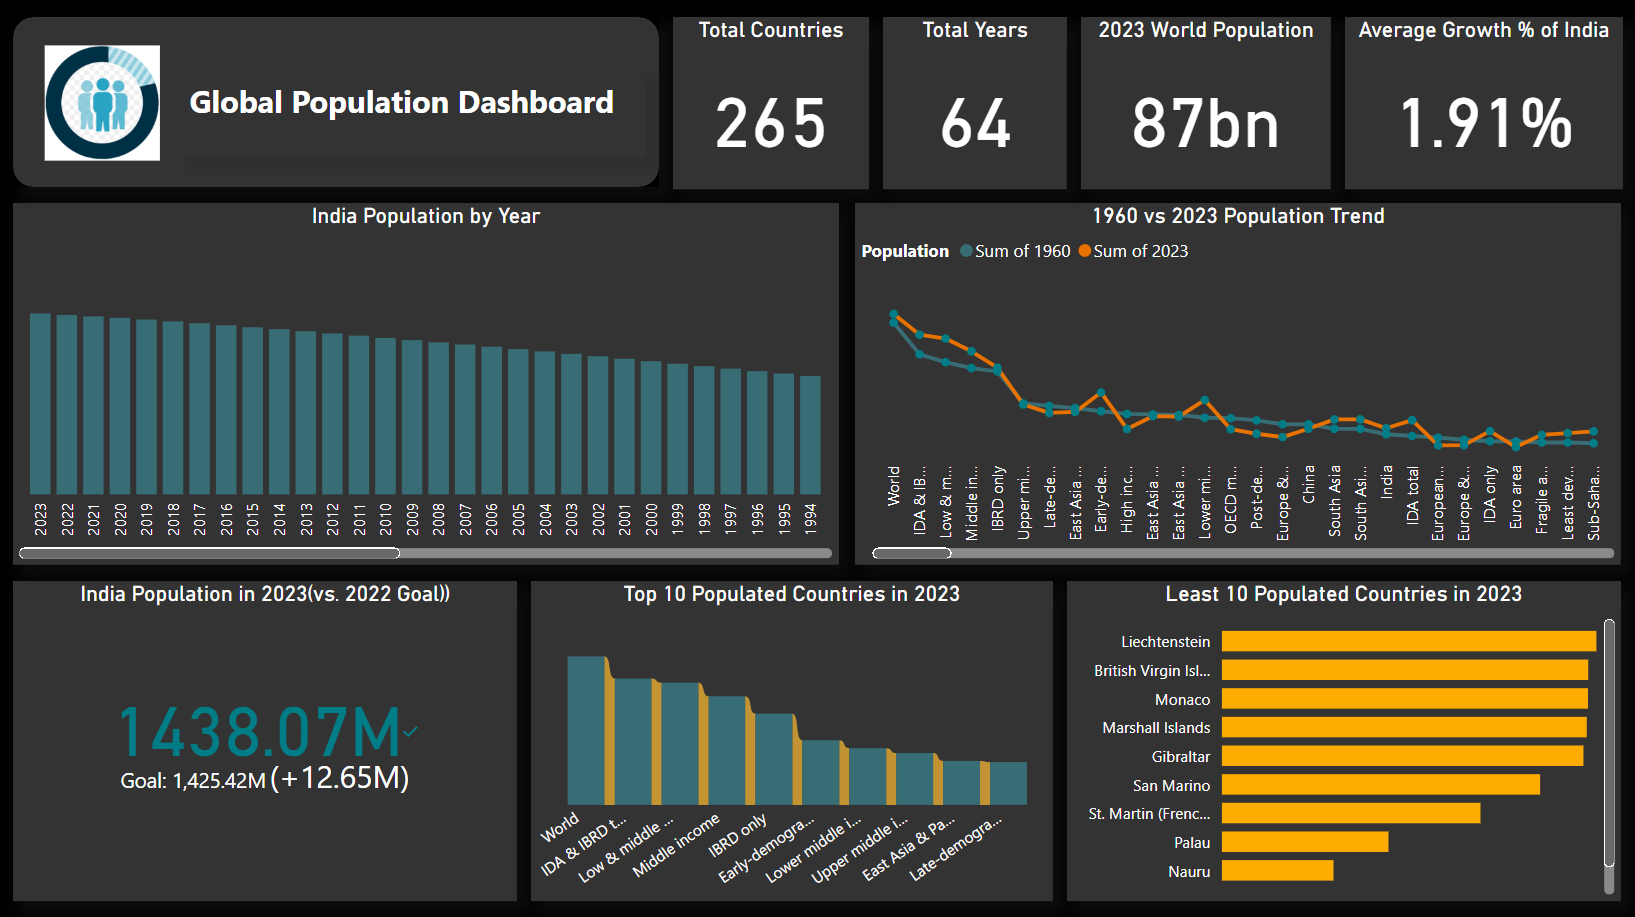

This screenshot's page, from the dashboard's own definition file:
{"tool":"powerbi","page":{"name":"Page 1","canvas":[1280,720],"ordinal":0},"visuals":[{"type":"barChart","title":"Least 10 Populated Countries in 2023","fields":{"Category":["Main Data(Appended).Country Name"],"Y":["Sum(Main Data(Appended).2023)"]},"box":[834,456.1,432.6,249.9],"z":0},{"type":"columnChart","title":"Top 10 Populated Countries in 2023","fields":{"Y":["Sum(Main Data(Appended).2023)"],"Category":["Main Data(Appended).Country Name"]},"box":[415.4,456.1,407.6,249.9],"z":1000},{"type":"card","title":"2023 World Population","fields":{"Values":["Sum(Main Data(Appended).2023)"]},"box":[844.9,15.6,195.2,134.3],"z":2000},{"type":"kpi","title":"India Population in 2023(vs. 2022 Goal))","fields":{"TrendLine":["India's Growth rate.Index"],"Goal":["Sum(India's Population.2022)"],"Indicator":["Sum(India's Population.2023)"]},"box":[10.9,456.1,393.6,249.9],"z":3000},{"type":"columnChart","title":"India Population by Year","fields":{"Category":["India's Growth rate.Year"],"Y":["Sum(India's Growth rate.Population)"]},"box":[10.9,160.9,645,282.7],"z":4000},{"type":"card","title":"Average Growth % of India","fields":{"Values":["Avg(India's Growth rate.Growth%)"]},"box":[1051.1,15.6,217.1,134.3],"z":5000},{"type":"shape","box":[10.9,15.6,504.5,132.8],"z":6000},{"type":"textbox","box":[143.7,59.3,360.8,65.6],"z":7000},{"type":"lineChart","title":"1960 vs 2023 Population  Trend","fields":{"Category":["Main Data(Appended).Country Name"],"Y":["Sum(Main Data(Appended).1960)"],"Y2":["Sum(Main Data(Appended).2023)"]},"box":[668.5,160.9,598.2,282.7],"z":8000},{"type":"card","title":"Total Countries","fields":{"Values":["Count(Main Data(Appended).Country Name)"]},"box":[526.3,15.6,153.1,134.3],"z":9000},{"type":"card","title":"Total Years","fields":{"Values":["Count(India's Growth rate.Population)"]},"box":[690.3,15.6,143.7,134.3],"z":10000},{"type":"image","box":[29.7,32.8,101.5,100],"z":11000}]}

Visuals, with their boxes in screenshot pixels (x1, y1, x2, y2), scaled from the page's 1280x720 canvas onto the 1635x917 screenshot:
"Least 10 Populated Countries in 2023" barChart: 1065 581 1618 899
"Top 10 Populated Countries in 2023" columnChart: 531 581 1051 899
"2023 World Population" card: 1079 20 1329 191
"India Population in 2023(vs. 2022 Goal))" kpi: 14 581 517 899
"India Population by Year" columnChart: 14 205 838 565
"Average Growth % of India" card: 1343 20 1620 191
shape: 14 20 658 189
textbox: 184 76 644 159
"1960 vs 2023 Population  Trend" lineChart: 854 205 1618 565
"Total Countries" card: 672 20 868 191
"Total Years" card: 882 20 1065 191
image: 38 42 168 169
